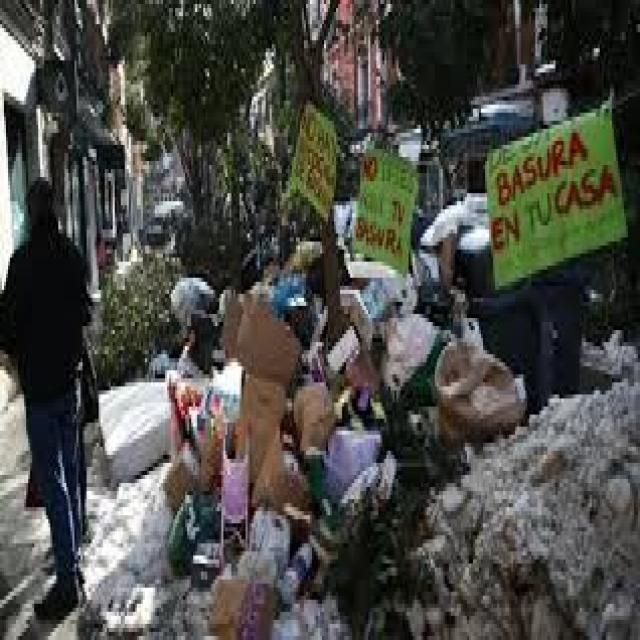garbage: (96, 181, 640, 636)
